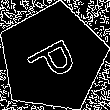P_NE: (21, 29, 84, 87)
